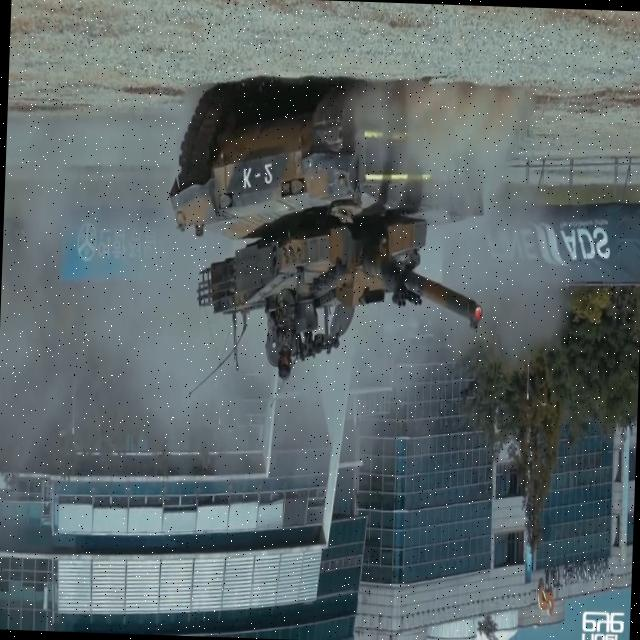korea tank: (163, 74, 491, 386)
